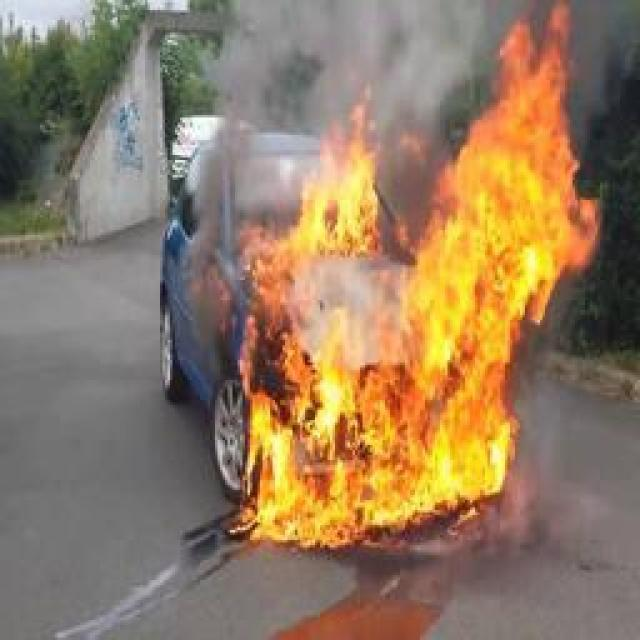Fire: (231, 0, 604, 548)
